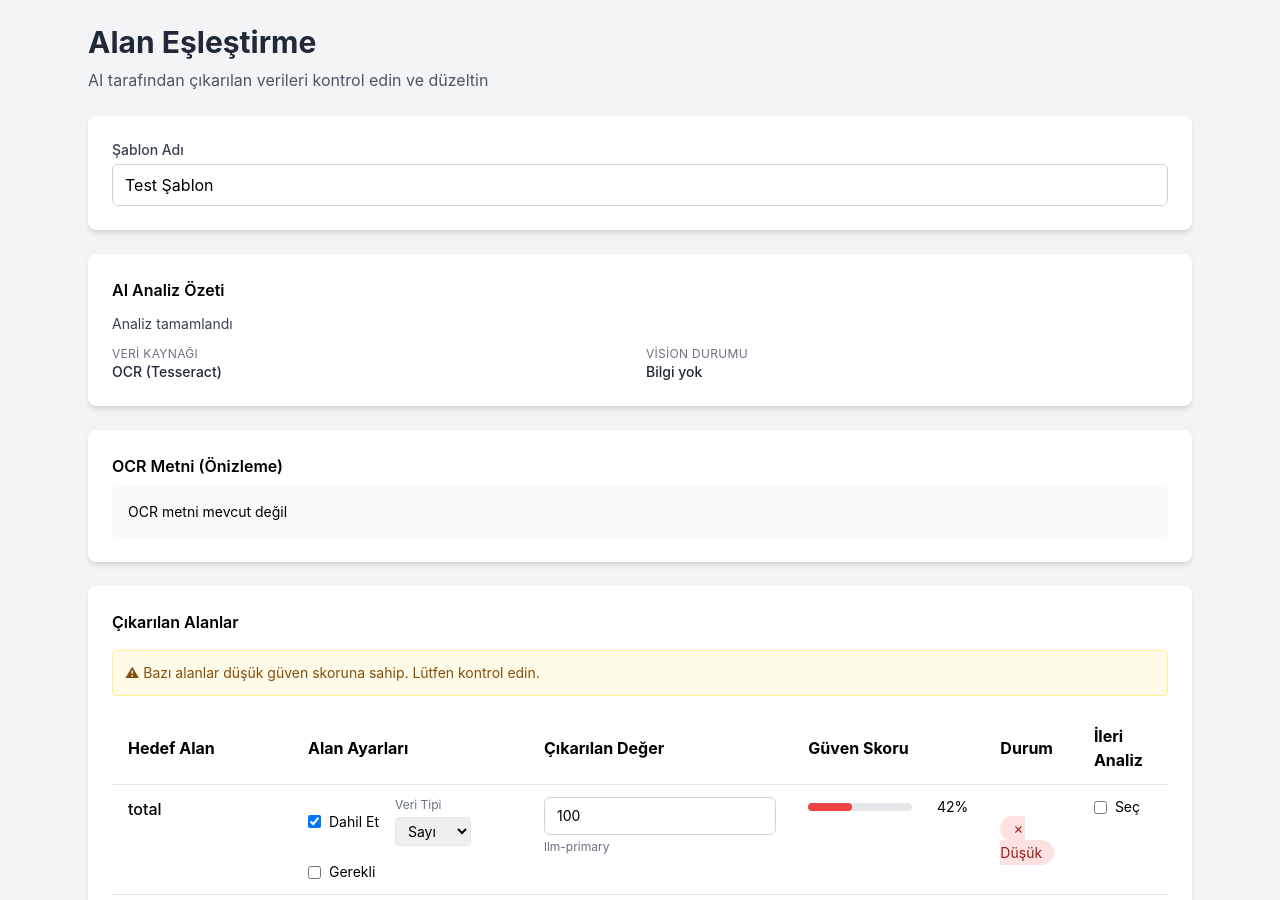
FieldMapper reanalyze flow › sends selected fields to reanalyze endpoint and updates mappings
Step 1. Click the checkbox labelled "Seç" → [1100, 807], box x1=1094 y1=800 x2=1107 y2=814
(page scrolled)
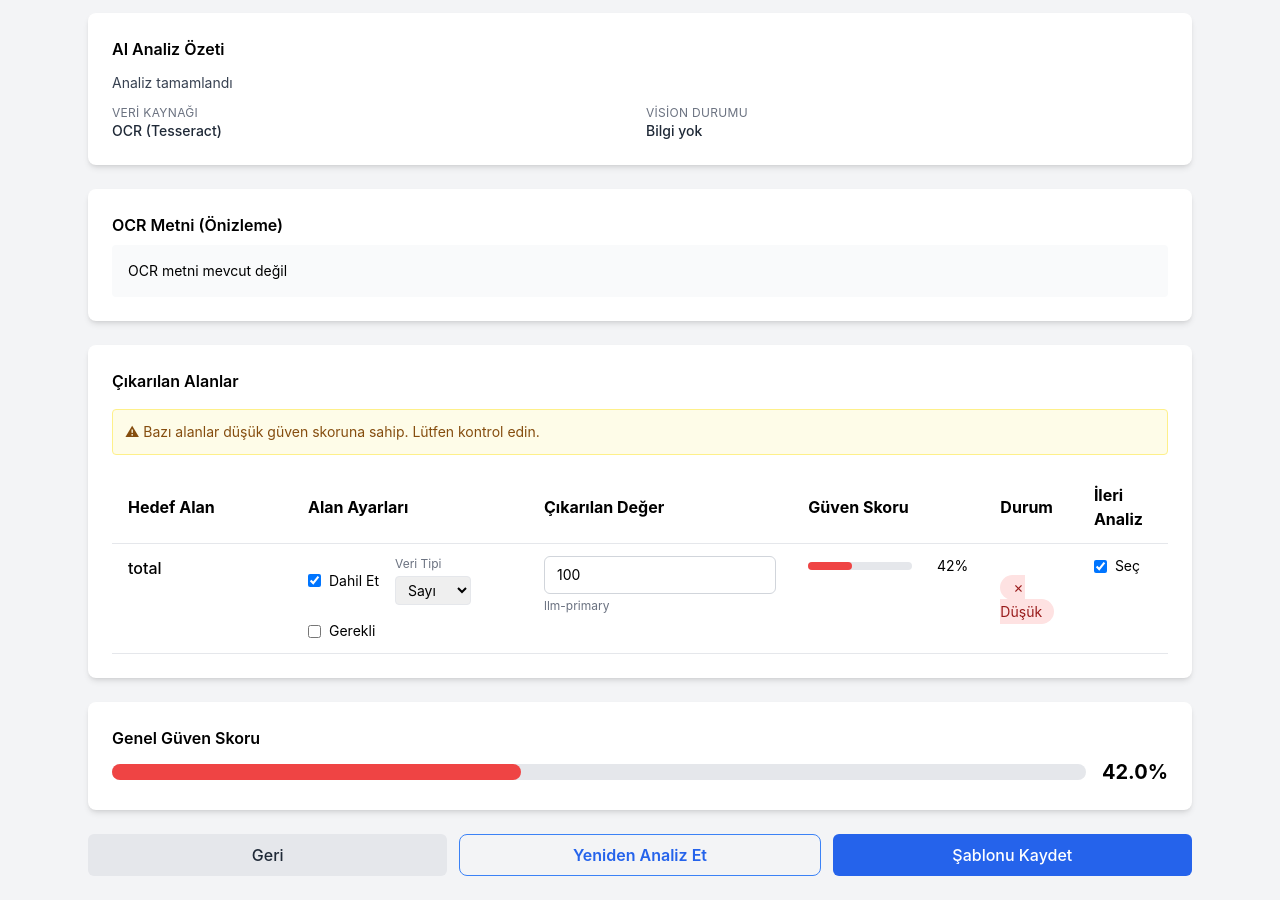
Expected: the button "Yeniden Analiz Et" is enabled
Step 2. Click the button "Yeniden Analiz Et" → [640, 855], box x1=459 y1=834 x2=821 y2=876
(page scrolled)
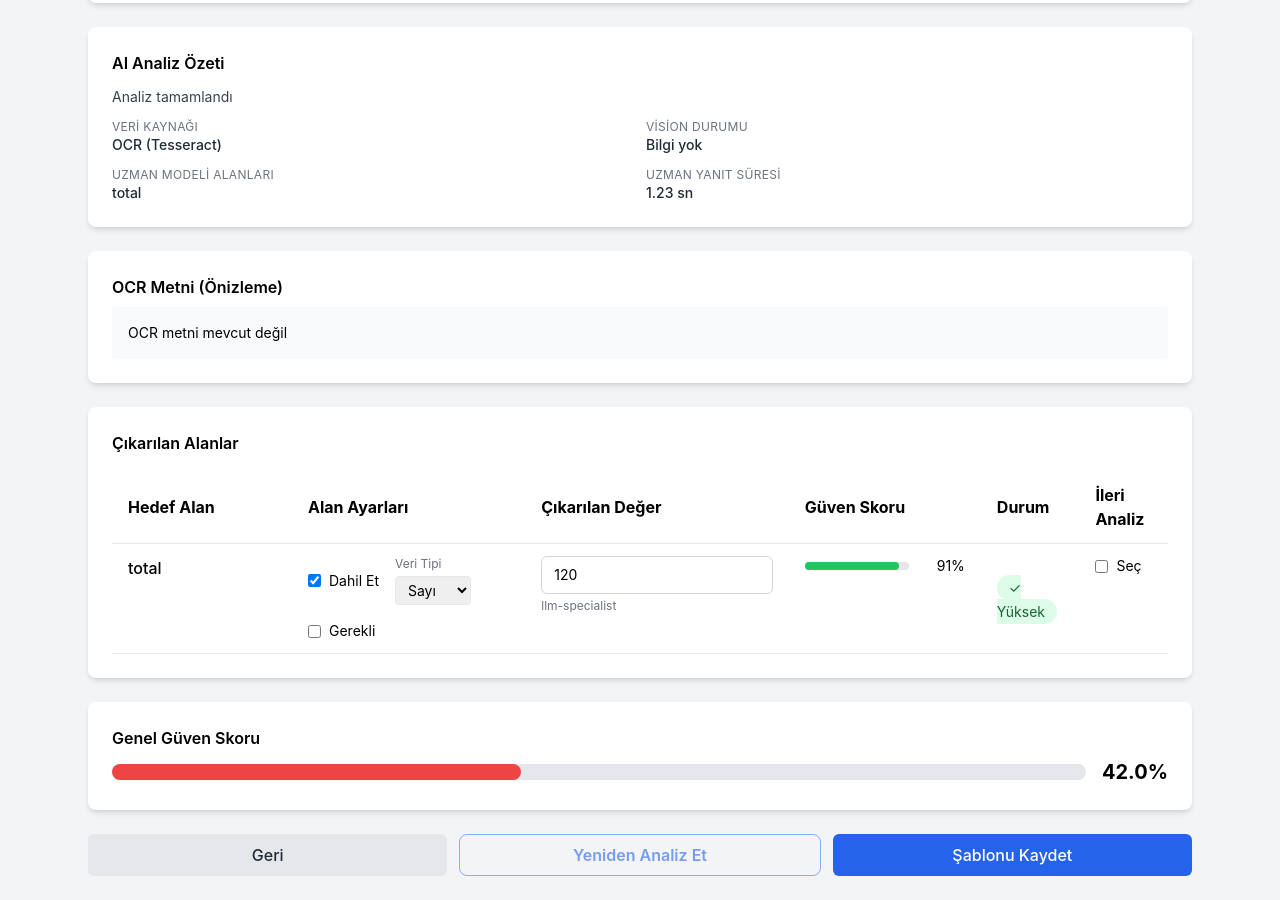
Expected: the field showing "120" is shown, x1=541 y1=556 x2=773 y2=594
